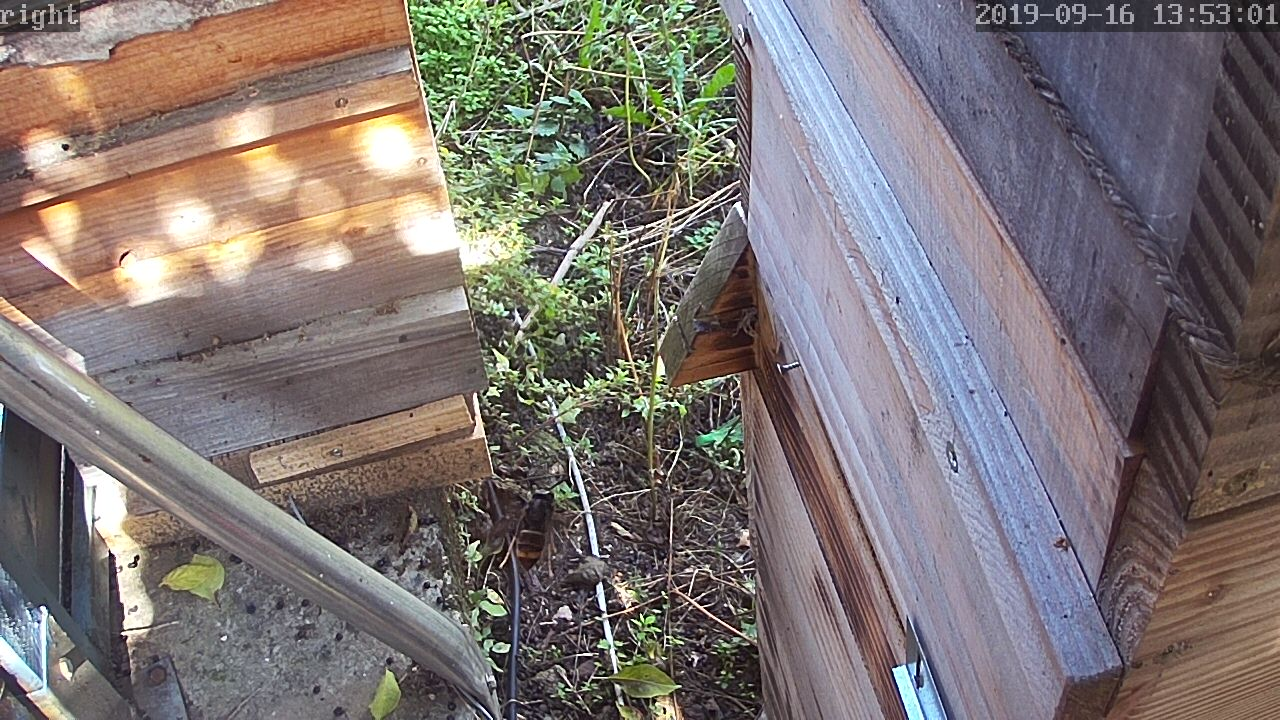hornet: (504, 477, 570, 580)
